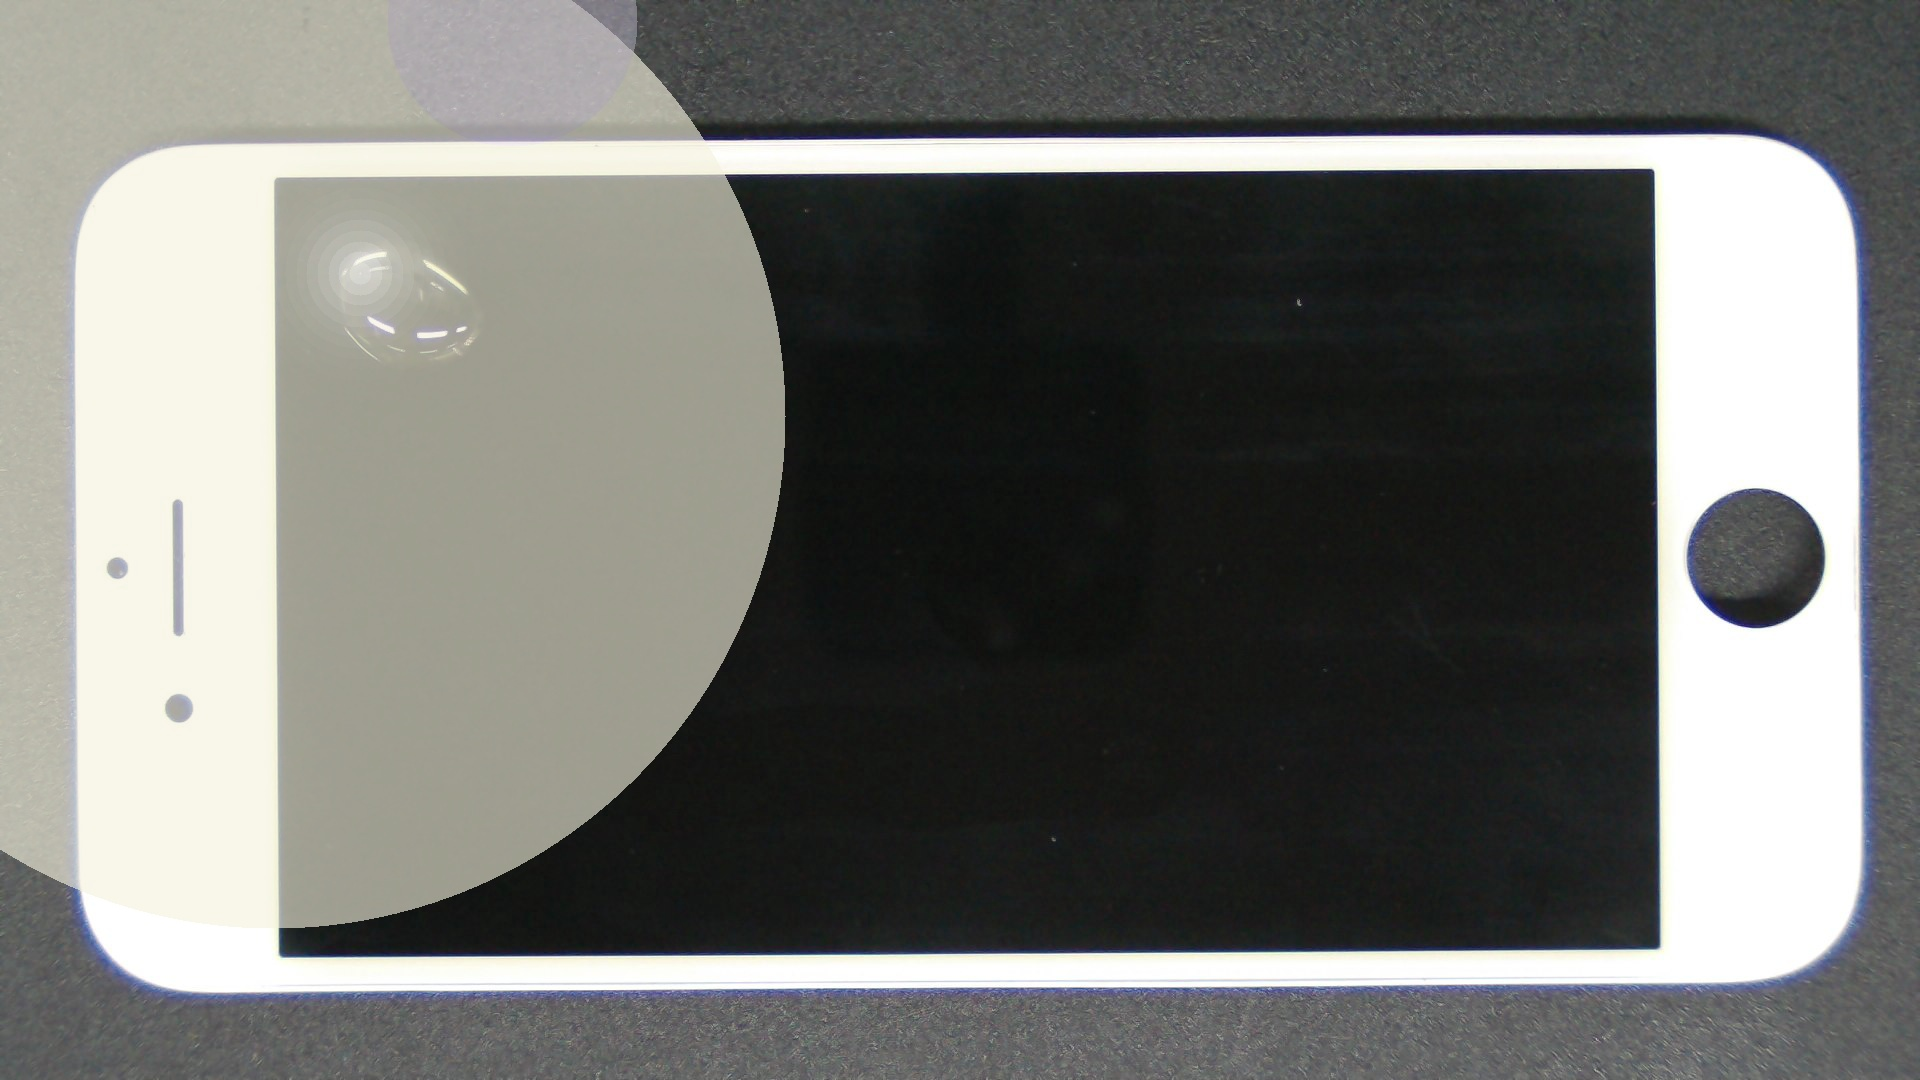oil: (194, 119, 583, 357)
